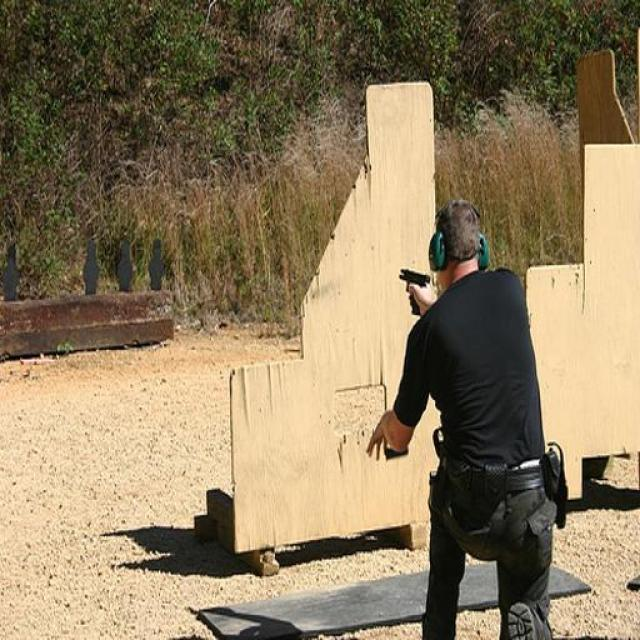pistol: (397, 266, 431, 318)
